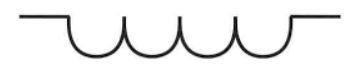inductor: (48, 6, 312, 59)
